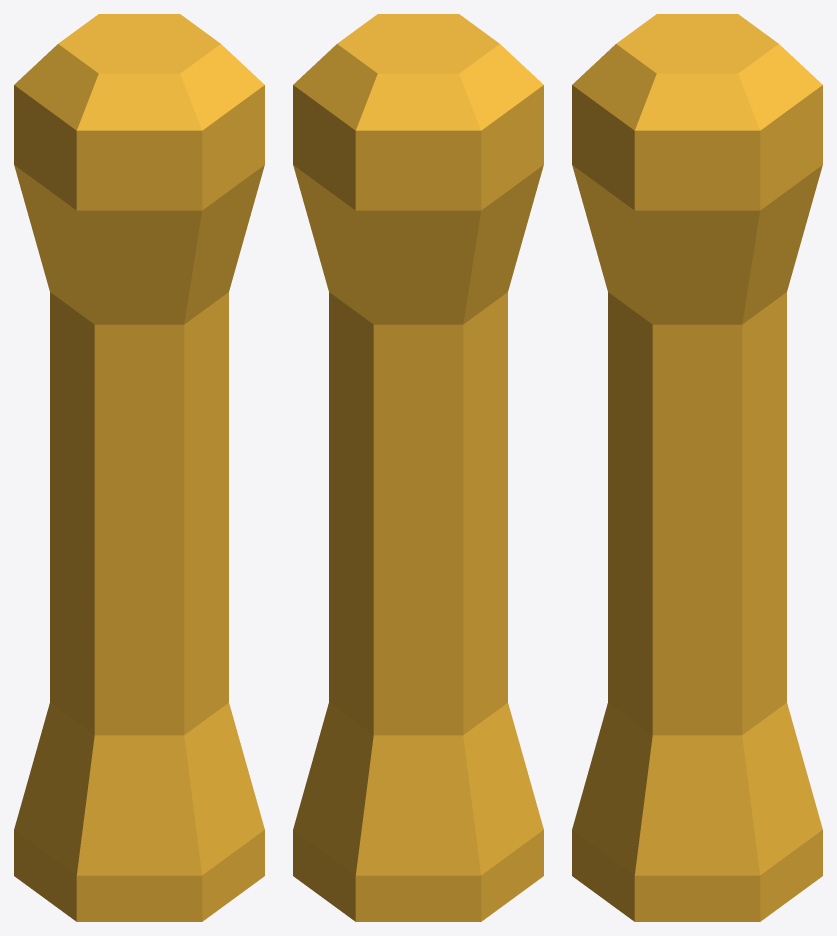
The model's file is Pillar1.fbx.
3 renders of one model, left to right at view 1: azimuth 30°, elevation 25°; view 2: azimuth 150°, elevation 25°; view 3: azimuth 270°, elevation 25°, orthographic.
Parts seen in each view (by area): view 1: Pillar1; view 2: Pillar1; view 3: Pillar1.
Boxes of the visible parts, bbox=[...] form: Pillar1: bbox=[14, 14, 264, 921]; Pillar1: bbox=[293, 14, 543, 921]; Pillar1: bbox=[572, 14, 822, 921].
Bounding box in the file's own units: 25.98 × 110 × 30.
